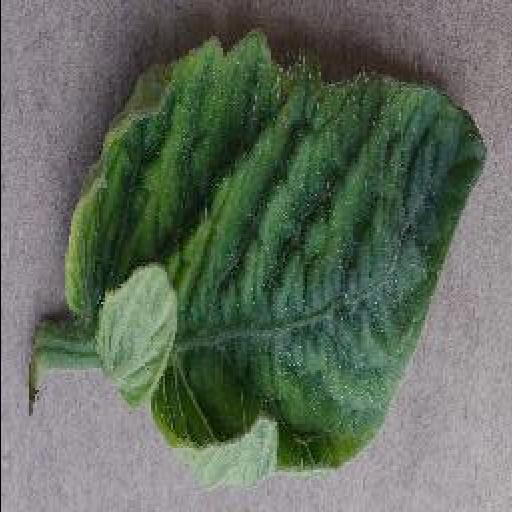disease_tomato: (60, 26, 490, 484)
